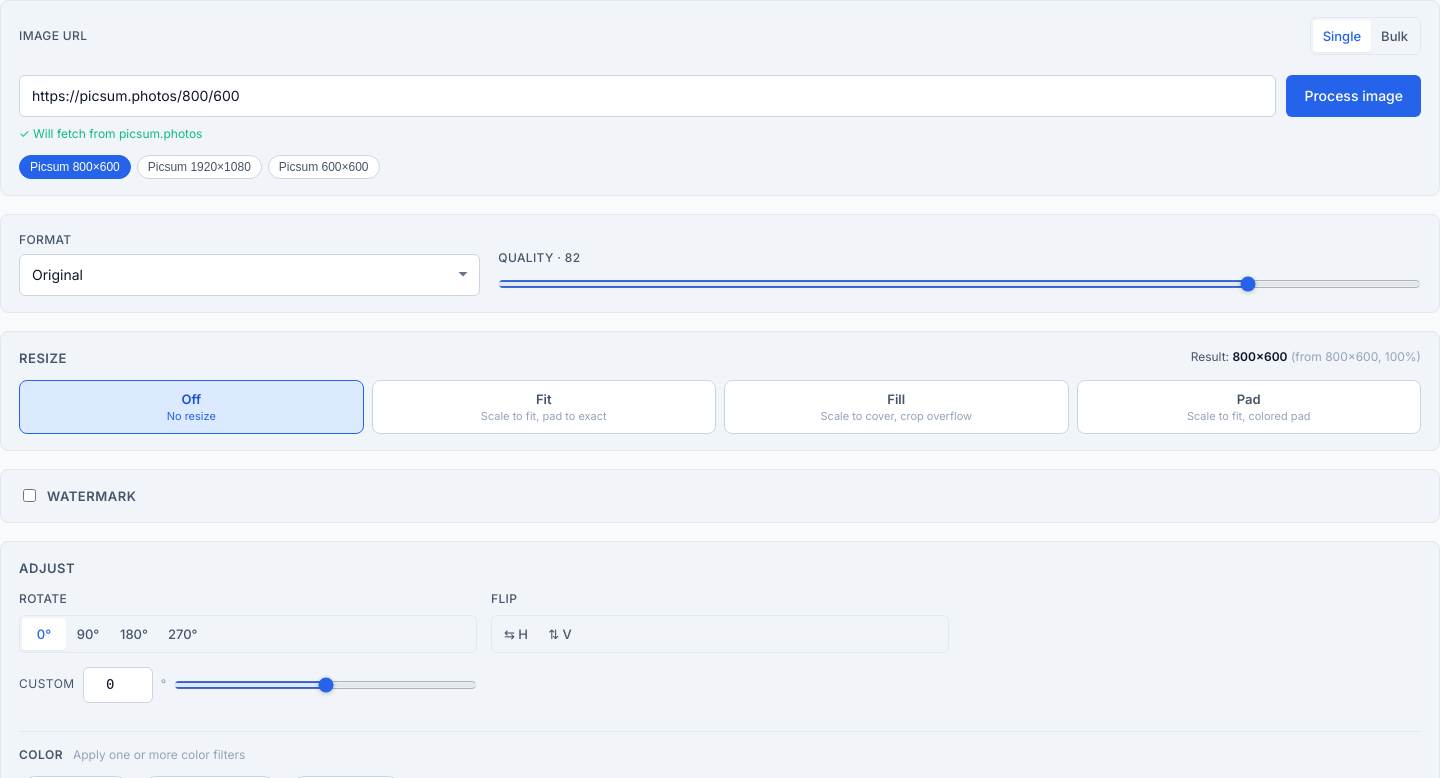
Test: JobForm › the watermark checkbox toggles the watermark section
Note: Toggle on
Click the checkbox labelled "Watermark".
click(30, 496)  # box [23,489,36,502]
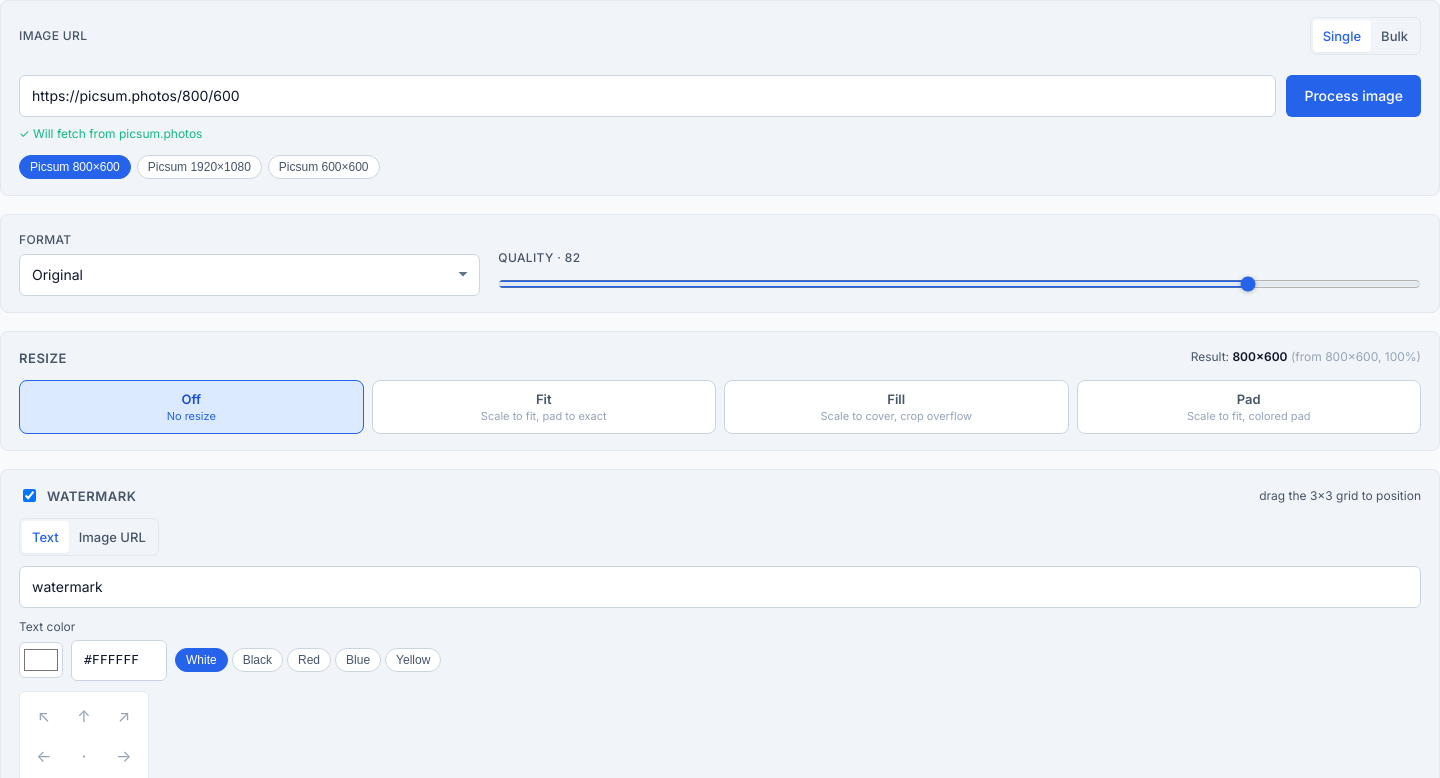
Result: the field with placeholder "Watermark text" is shown at [19,566,1421,608]
Note: Toggle off
Click the checkbox labelled "Watermark".
click(30, 496)  # box [23,489,36,502]
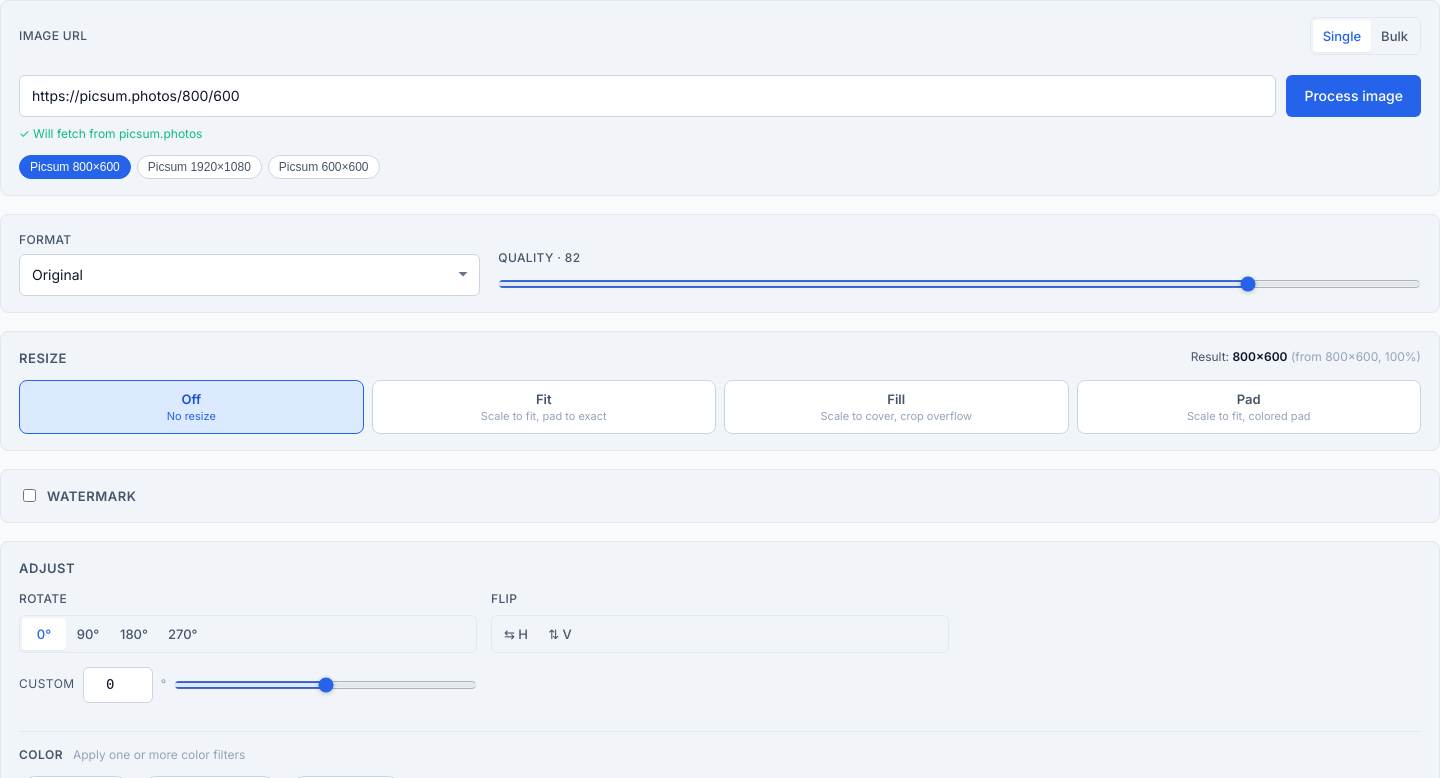
Result: the field with placeholder "watermark text" is gone
